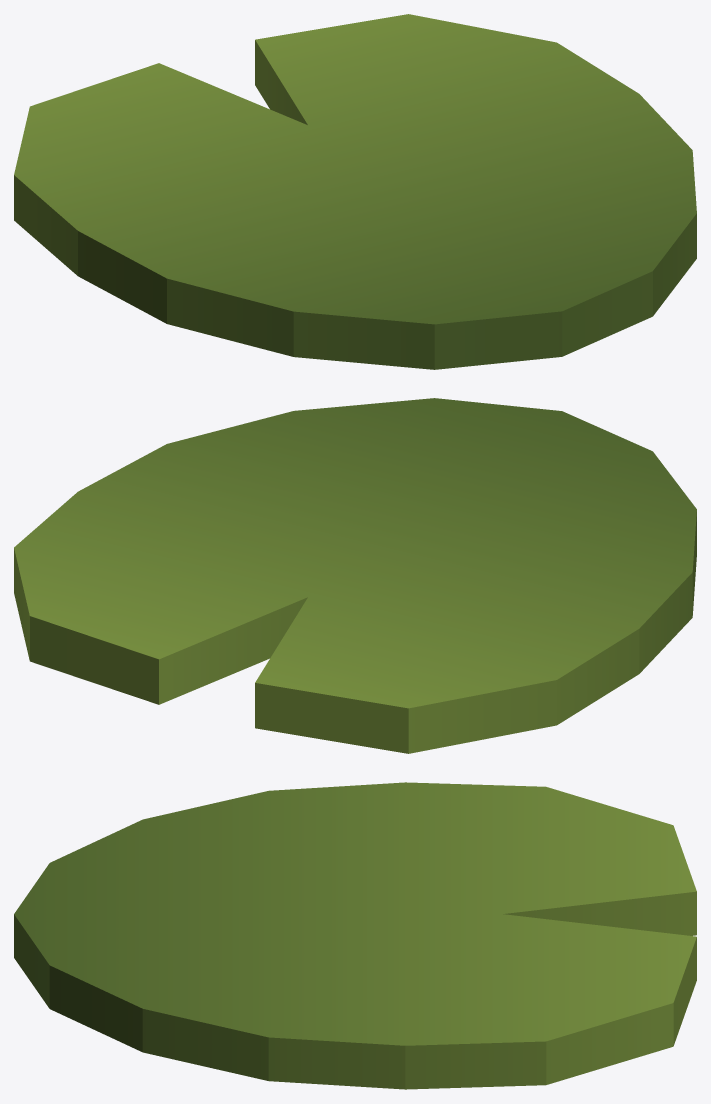
File: PondPlant_02.fbx
3 renders of one model, top to bottom at view 1: azimuth 30°, elevation 25°; view 2: azimuth 150°, elevation 25°; view 3: azimuth 270°, elevation 25°, orthographic. The views are drawn at different scales.
Parts seen in each view (by area): view 1: PondPlant_02_LOD0; view 2: PondPlant_02_LOD0; view 3: PondPlant_02_LOD0.
Boxes of the visible parts, <box> form: PondPlant_02_LOD0: <box>14,14,696,369</box>; PondPlant_02_LOD0: <box>14,398,696,753</box>; PondPlant_02_LOD0: <box>14,782,696,1089</box>.
Size of what is drawn, in the model's own units: 0.1956 by 0.0151 by 0.2144.
